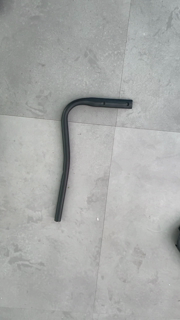L pipe: (53, 95, 135, 226)
